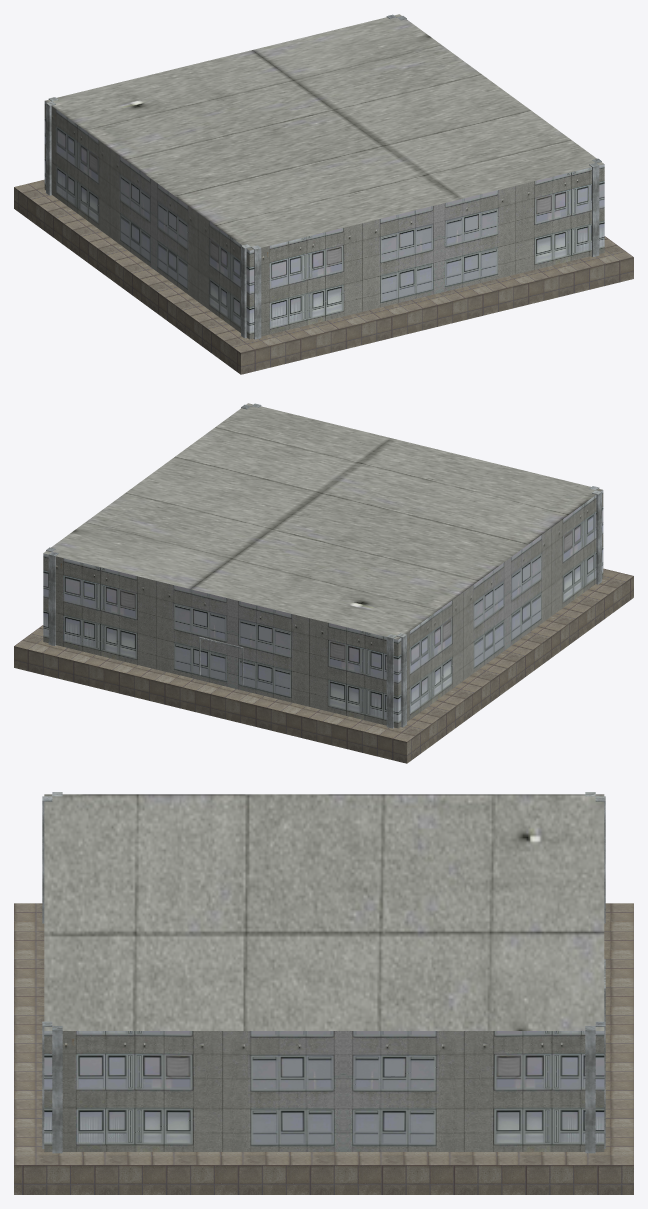
Rendered from BagSS10base_0.fbx.
The picture shows the model from 3 angles, top to bottom: view 1: azimuth 30°, elevation 25°; view 2: azimuth 150°, elevation 25°; view 3: azimuth 270°, elevation 25°; orthographic projection. The views are drawn at different scales.
Visible parts, largest first — view 1: baseBox0, baseFound0, baseCrete0; view 2: baseBox0, baseFound0, baseCrete0; view 3: baseBox0, baseFound0, baseCrete0.
Boxes of the visible parts, x1,y1,x2,y2 form: baseBox0: (44,14,604,339); baseFound0: (14,179,633,374); baseCrete0: (46,14,601,339); baseBox0: (43,403,603,728); baseFound0: (14,568,633,763); baseCrete0: (46,403,601,728); baseBox0: (44,794,604,1151); baseFound0: (14,903,633,1194); baseCrete0: (42,792,605,1153).
Size of the model in its own units: 48.58 by 13.2 by 48.58.
